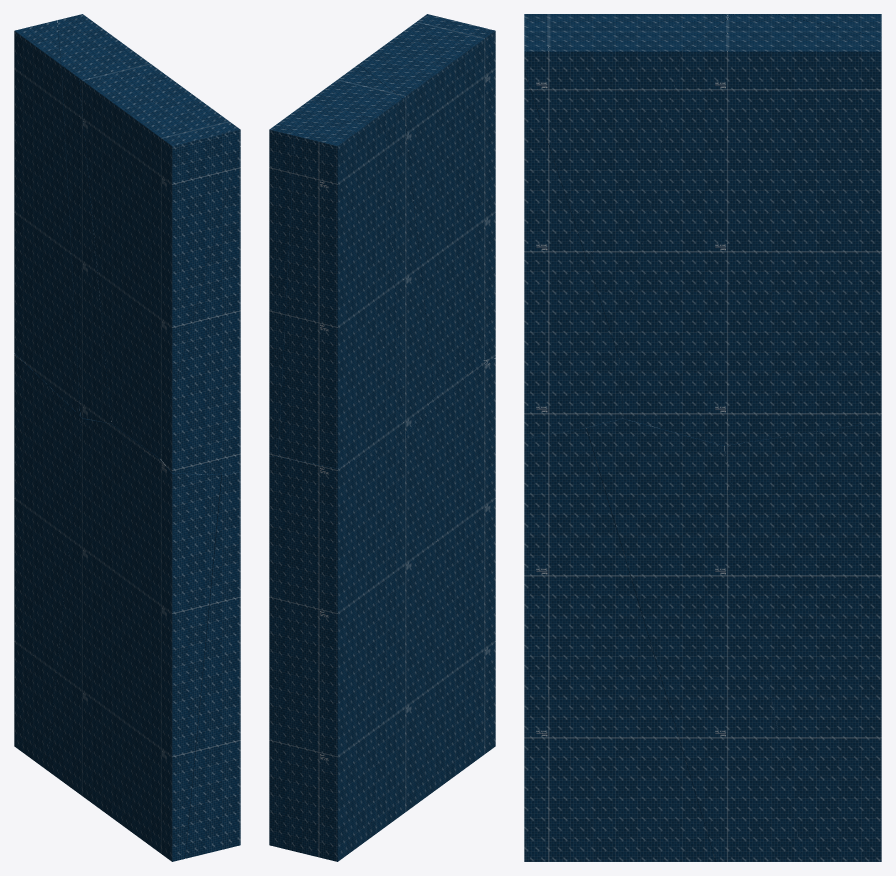
Rendered from 2mWallFractured.fbx.
3 views of the same model, side by side, from view 1: azimuth 30°, elevation 25°; view 2: azimuth 150°, elevation 25°; view 3: azimuth 270°, elevation 25° (orthographic). The views are drawn at different scales.
Visible parts, largest first — view 1: CellFract2mWall_cell, CellFract2mWall_cell.004, CellFract2mWall_cell.002, CellFract2mWall_cell.005, CellFract2mWall_cell.003, CellFract2mWall_cell.001, CellFract2mWall_cell.006; view 2: CellFract2mWall_cell.002, CellFract2mWall_cell, CellFract2mWall_cell.005, CellFract2mWall_cell.004, CellFract2mWall_cell.006, CellFract2mWall_cell.003; view 3: CellFract2mWall_cell.006, CellFract2mWall_cell.001, CellFract2mWall_cell.002, CellFract2mWall_cell, CellFract2mWall_cell.004, CellFract2mWall_cell.003, CellFract2mWall_cell.005.
Part boxes in pixels (left/top/right/bottom): CellFract2mWall_cell: left=46, top=418, right=221, bottom=861; CellFract2mWall_cell.004: left=79, top=78, right=240, bottom=458; CellFract2mWall_cell.002: left=14, top=353, right=84, bottom=769; CellFract2mWall_cell.005: left=14, top=20, right=79, bottom=414; CellFract2mWall_cell.003: left=160, top=147, right=240, bottom=474; CellFract2mWall_cell.001: left=185, top=471, right=240, bottom=858; CellFract2mWall_cell.006: left=57, top=14, right=170, bottom=423; CellFract2mWall_cell.002: left=269, top=434, right=405, bottom=861; CellFract2mWall_cell: left=370, top=358, right=495, bottom=837; CellFract2mWall_cell.005: left=278, top=112, right=403, bottom=468; CellFract2mWall_cell.004: left=358, top=14, right=495, bottom=396; CellFract2mWall_cell.006: left=269, top=65, right=434, bottom=456; CellFract2mWall_cell.003: left=483, top=281, right=495, bottom=360; CellFract2mWall_cell.006: left=620, top=14, right=881, bottom=445; CellFract2mWall_cell.001: left=524, top=428, right=715, bottom=861; CellFract2mWall_cell.002: left=724, top=421, right=881, bottom=861; CellFract2mWall_cell: left=585, top=417, right=802, bottom=861; CellFract2mWall_cell.004: left=524, top=14, right=733, bottom=364; CellFract2mWall_cell.003: left=524, top=71, right=622, bottom=438; CellFract2mWall_cell.005: left=776, top=14, right=881, bottom=37.
Size of the model in its own units: 50 by 500 by 200.
1 material, 1 textured.
